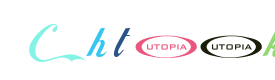1: (15, 0, 95, 80)
4: (136, 0, 216, 80)
6: (126, 0, 206, 80)
H: (57, 0, 137, 80)
J: (194, 0, 274, 80)
K: (190, 0, 270, 80)
T: (96, 0, 176, 80)
